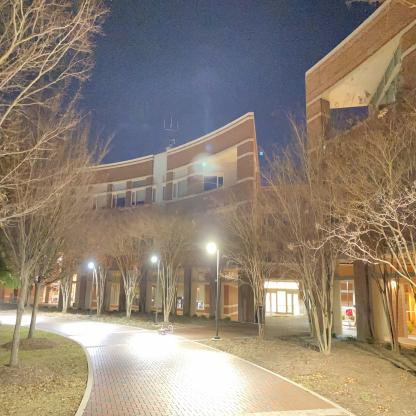eb2: (3, 129, 291, 336)
